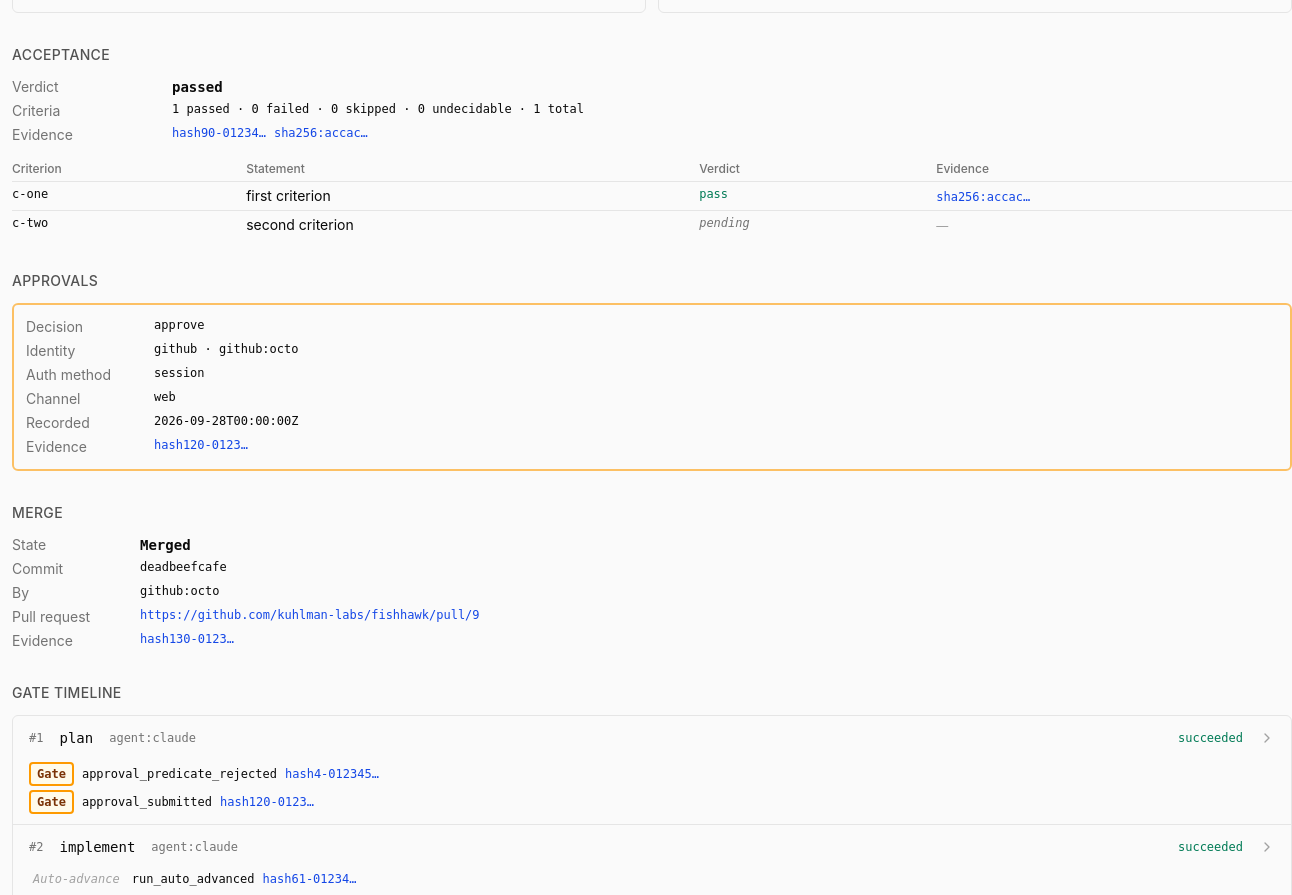
Test: <RunDetail> evidence narrative › following an evidence link to an entry beyond the first audit page renders that entry
(page scrolled)
Expected: the heading "Merge" is shown, [12,504,63,521]
What coordinates should you click on to do the following:
click the link with test id "evidence-link" below "2026-09-28T00:00:00Z"
I would click on:
 (201, 445)
Its box is [154,438,248,452].
(page scrolled)
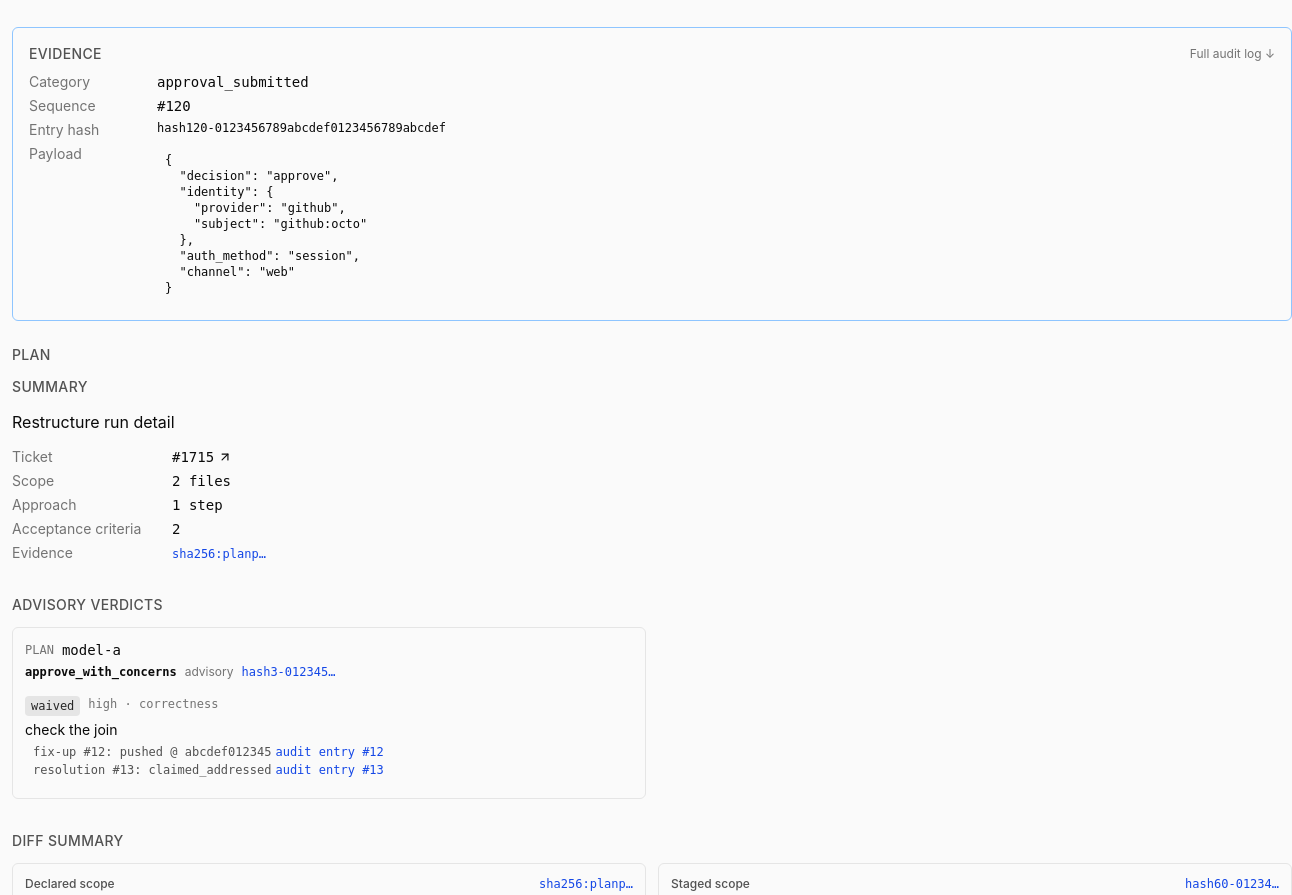
Result: the text with test id "evidence-entry-hash" reads "hash120-0123456789abcdef0123456789abcdef" at [157,121,446,135]
Result: the text "approval_submitted" is shown at [157,74,309,90]
